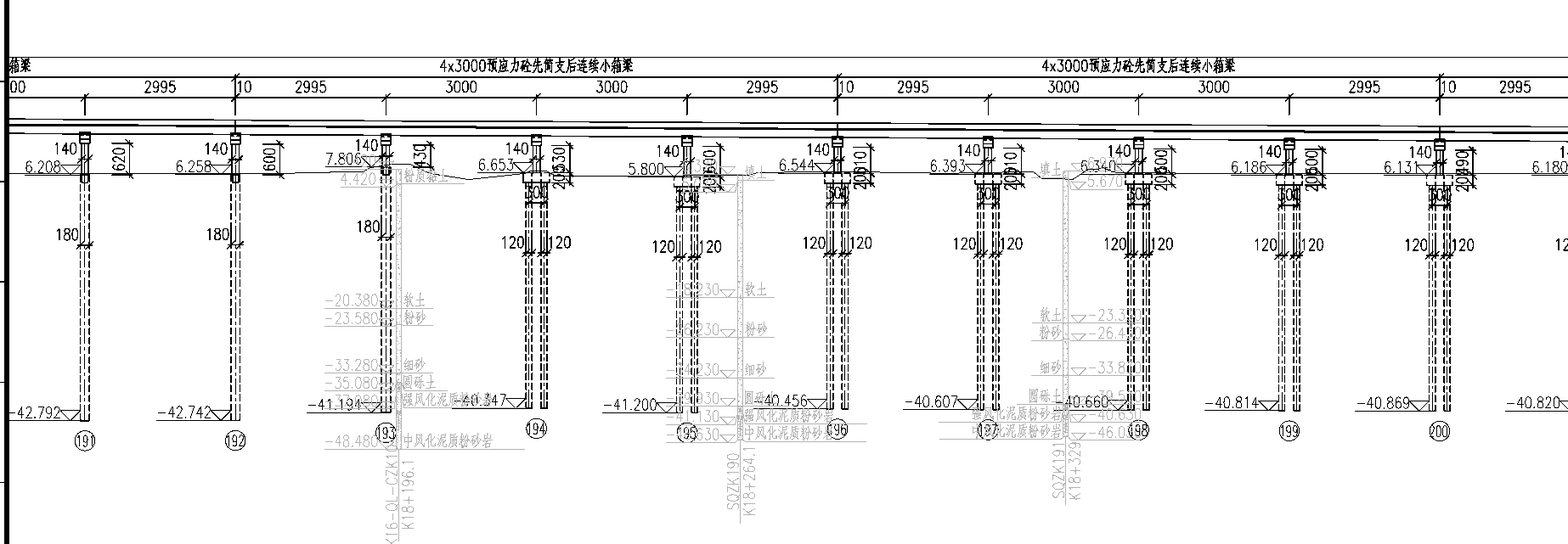C: (601, 126, 718, 451), (1200, 129, 1317, 451), (1353, 131, 1465, 451), (903, 127, 1012, 447), (155, 124, 257, 459), (7, 122, 107, 459), (1065, 130, 1167, 444), (764, 129, 864, 445), (319, 126, 408, 449), (1503, 131, 1567, 458)
